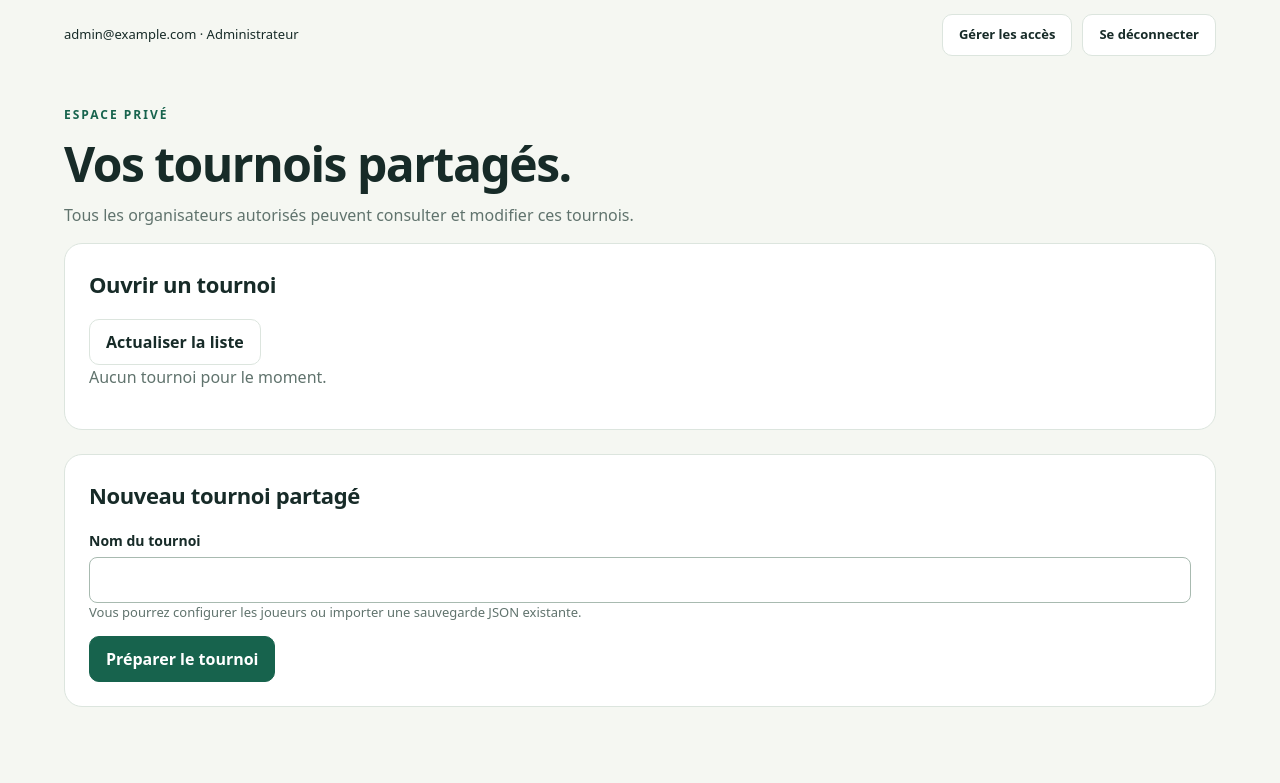
Test case: espace privé Vue › permet à l’administrateur de générer un lien privé
Click the button "Gérer les accès" at x=1007, y=35, box [942, 14, 1072, 56]
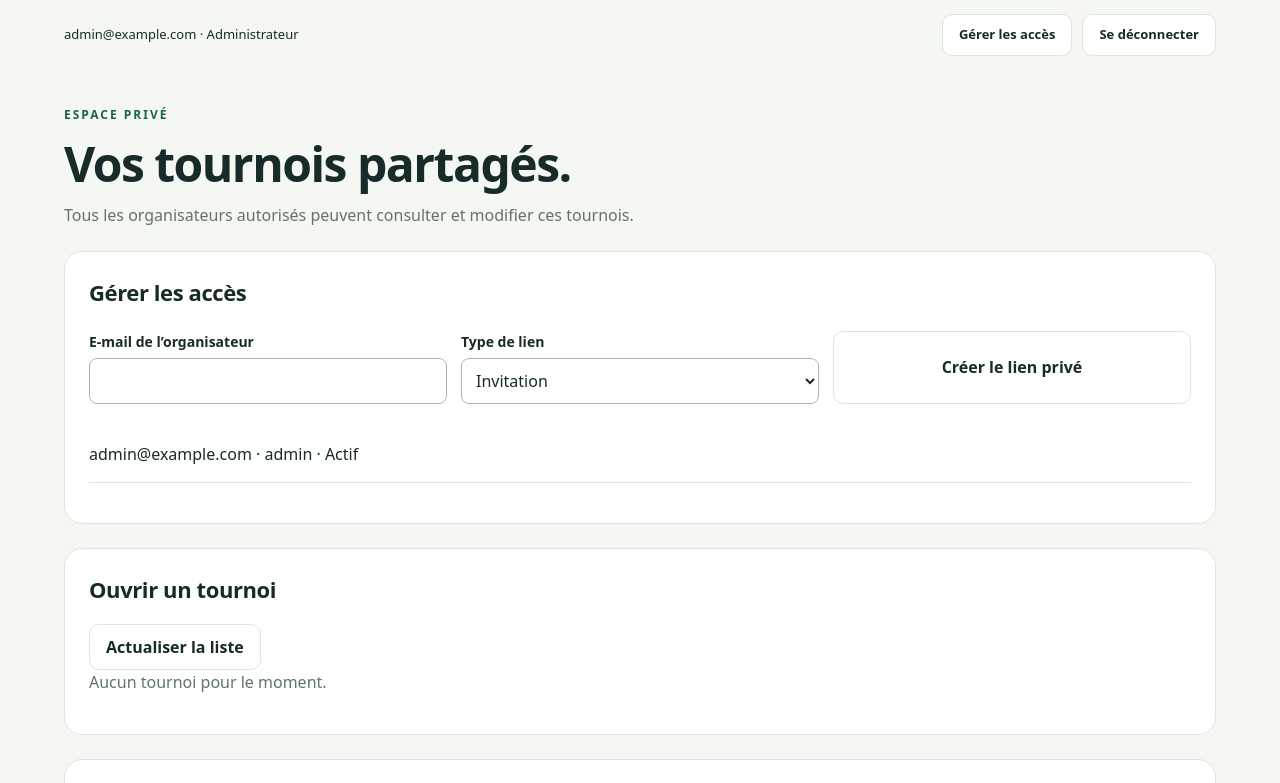
Type "new@example.com" into the field with id "invite-email" at x=268, y=381, box [89, 358, 447, 404]
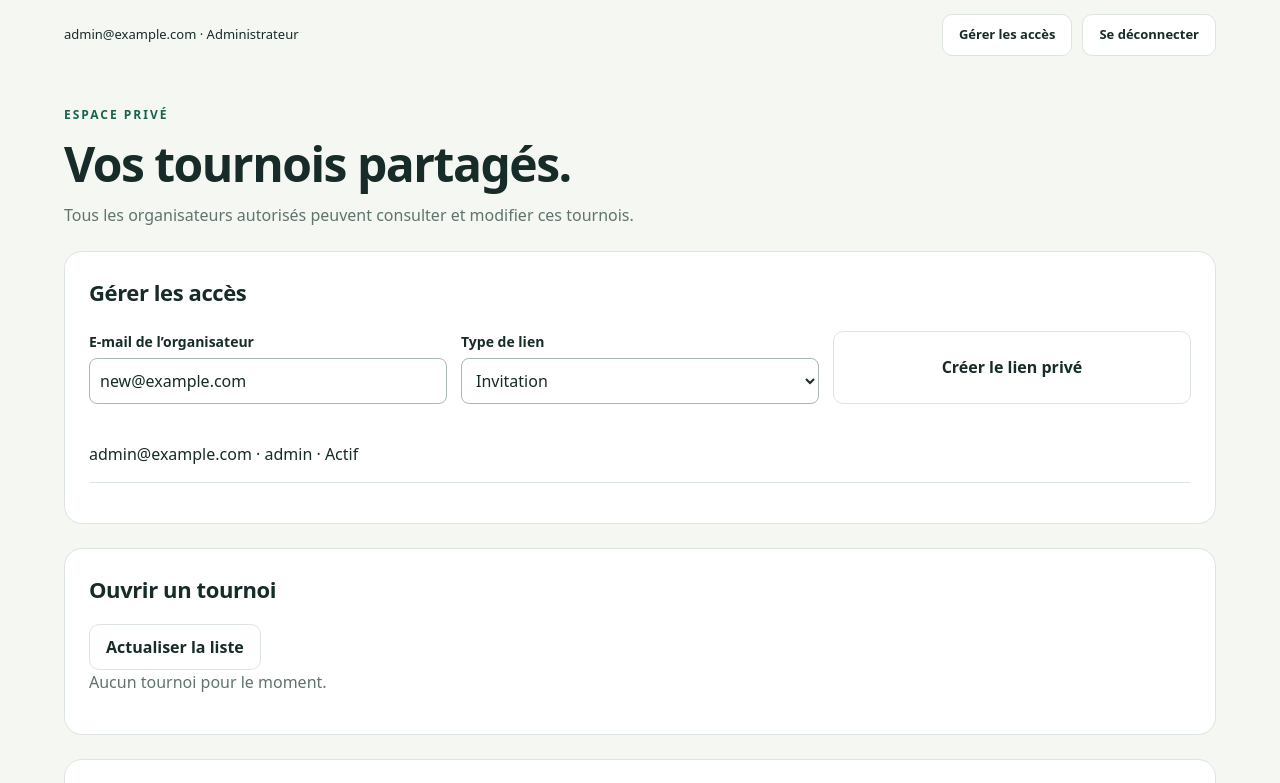
Submit the form "E-mail de l’organisateur Type de lien Créer le lien privé", box [89, 331, 1191, 404]
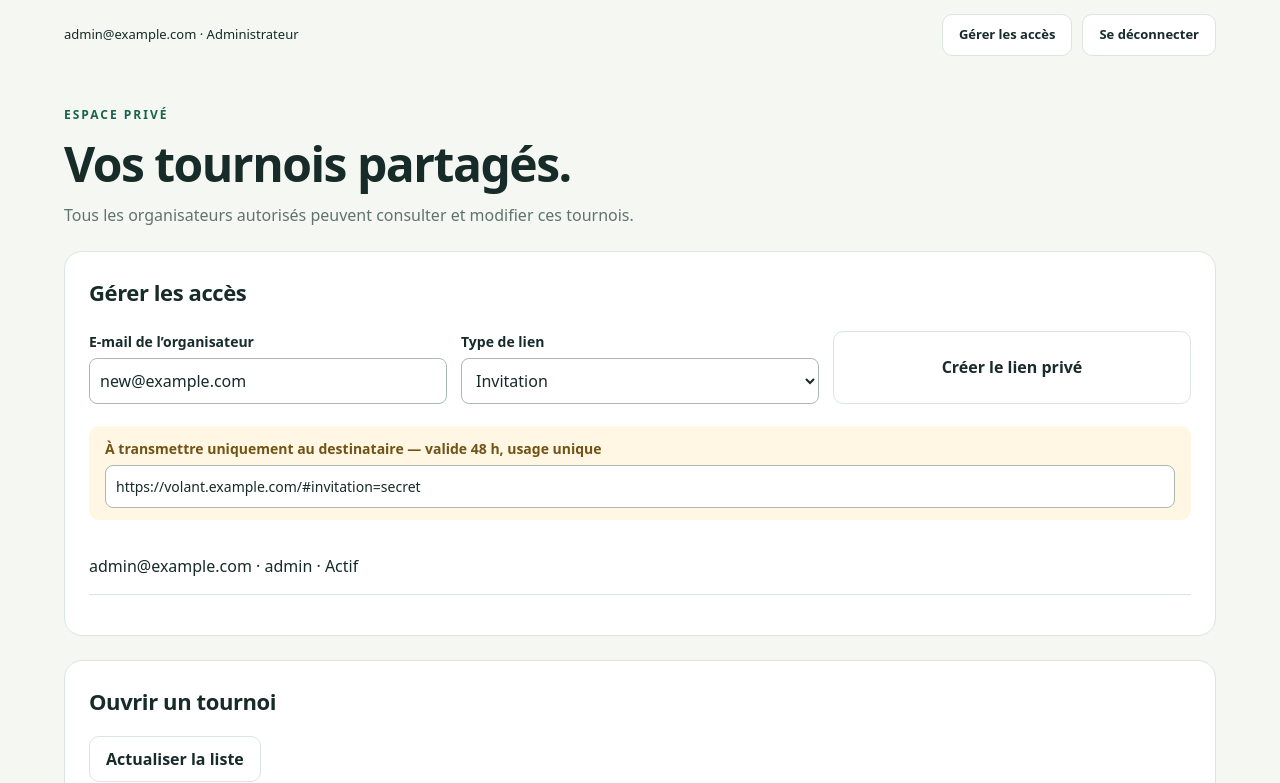
Now the field with id "invite-link" holds "https://volant.example.com/#invitation=secret", box [105, 465, 1175, 508]
